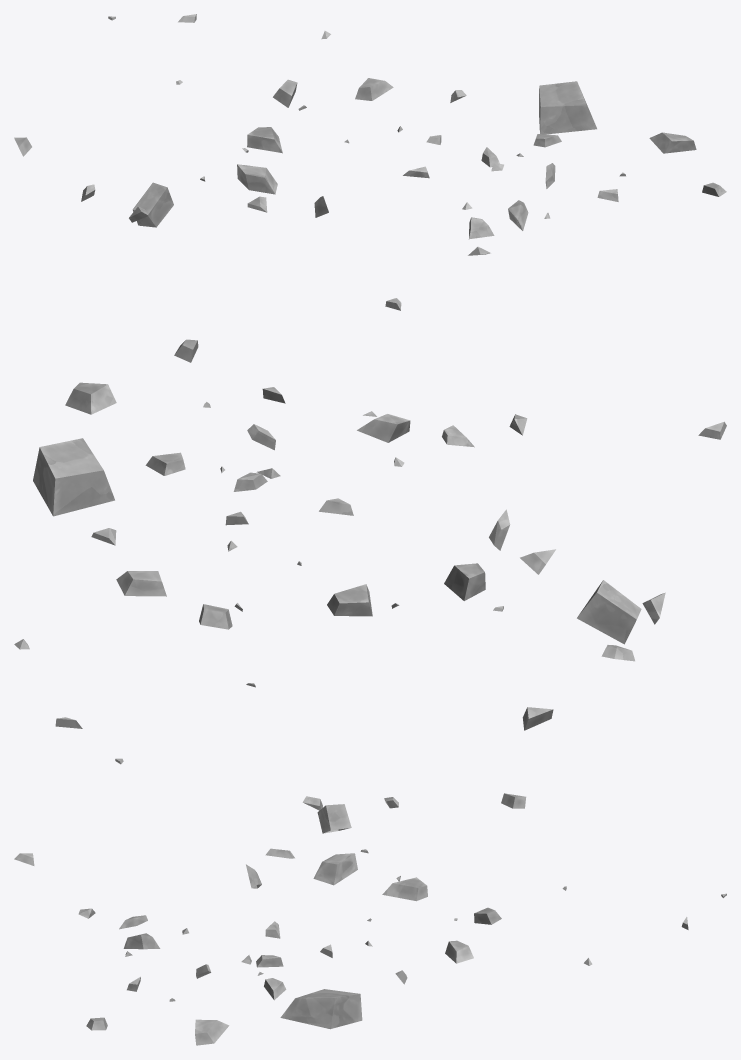
Rendered from sculpted_gravel_04.glb.
3 views of the same model, one above another, from view 1: azimuth 30°, elevation 25°; view 2: azimuth 150°, elevation 25°; view 3: azimuth 270°, elevation 25° (orthographic). The views are drawn at different scales.
Parts seen in each view (by area): view 1: sculpted_gravel_04; view 2: sculpted_gravel_04; view 3: sculpted_gravel_04.
Part boxes in pixels (<box>): sculpted_gravel_04: <box>14,14,726,310</box>; sculpted_gravel_04: <box>14,339,726,764</box>; sculpted_gravel_04: <box>14,793,726,1045</box>.
Bounding box in the file's own units: 2.68 × 0.1937 × 3.34.
1 material, 1 textured.
